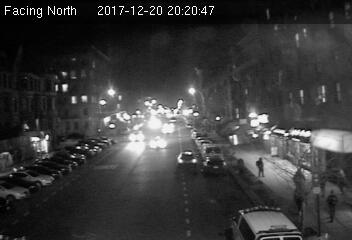car: (177, 150, 199, 170), (203, 156, 225, 174), (149, 135, 168, 149), (128, 130, 145, 142)
pedestrian: (254, 156, 267, 180)
police: (226, 200, 308, 240)
